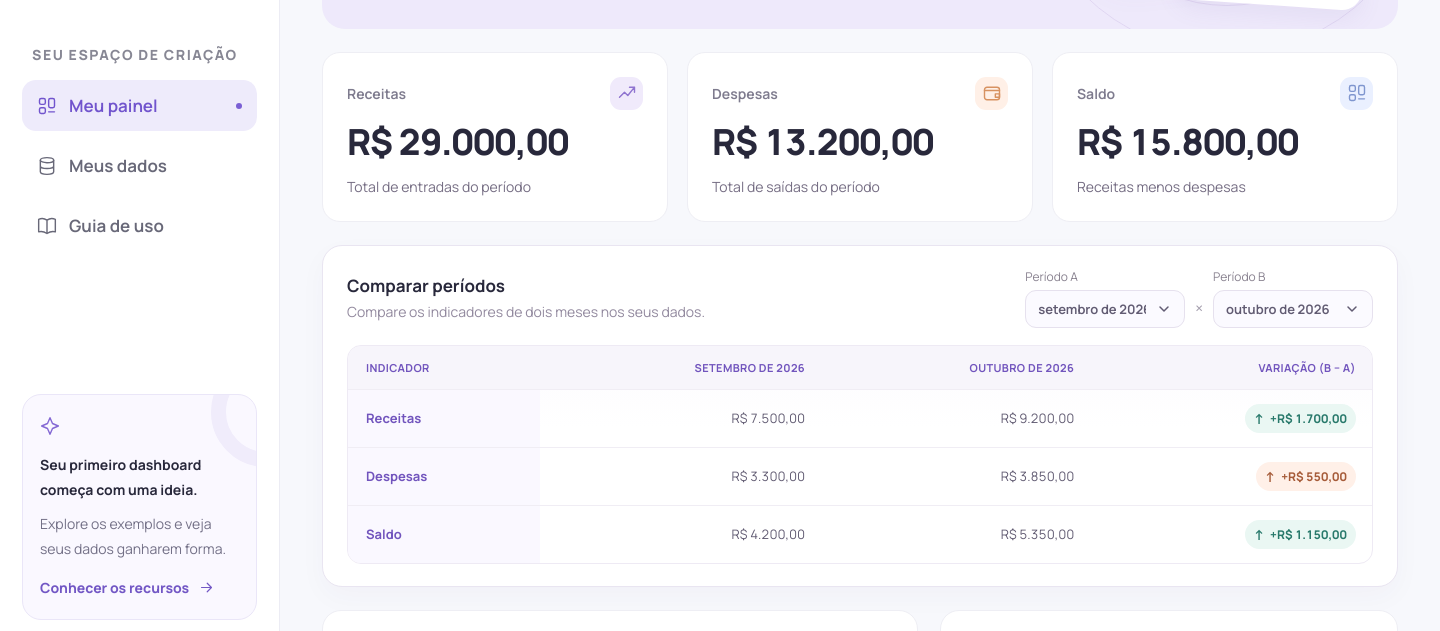
Test case: dashboard and data filters › compares the selected months and updates when the model changes
This screenshot has width=1440, height=631.
(page scrolled)
Check: the row "Receitas R$ 7.500,00 R$ 9.200,00 ↑ +R$ 1.700,00" is shown, box [732,409,805,427]
Step 1. Select "2026-08" in the dropdown labelled "Período A" → (1105, 309), box [1025,290,1185,328]
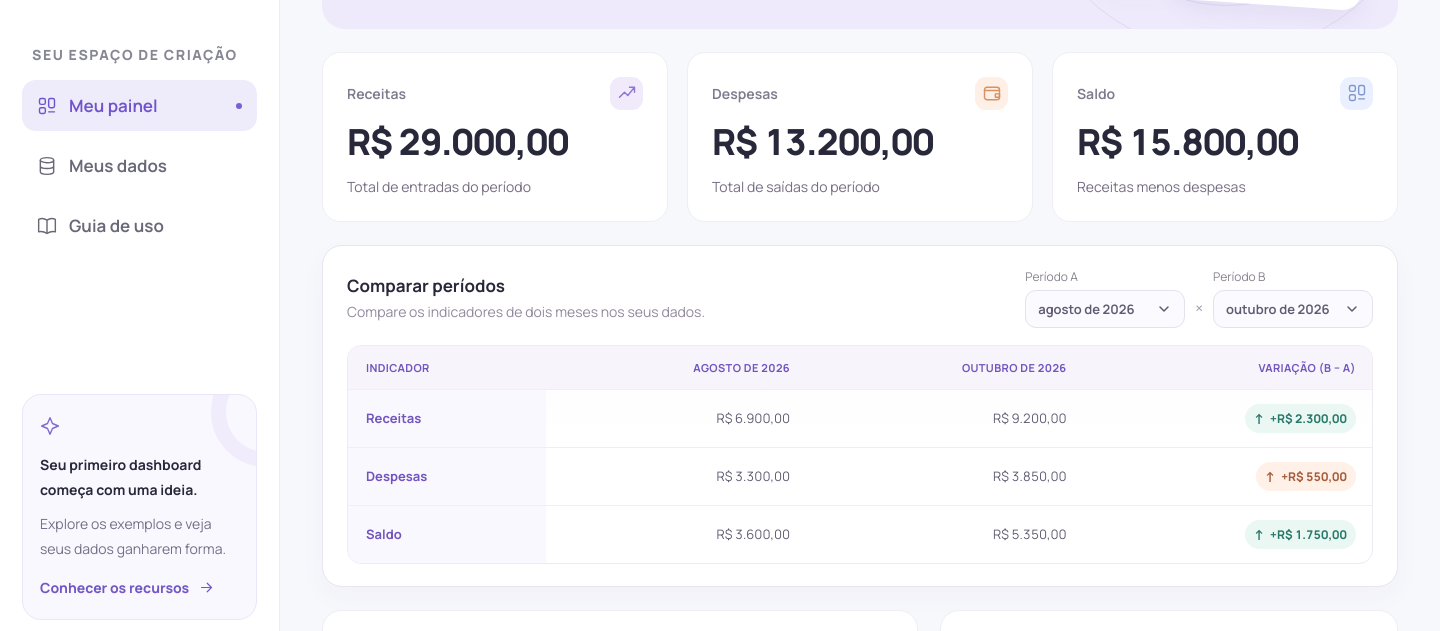
Step 2. Select "2026-09" in the dropdown labelled "Período B" → (1293, 309), box [1213,290,1373,328]
(page scrolled)
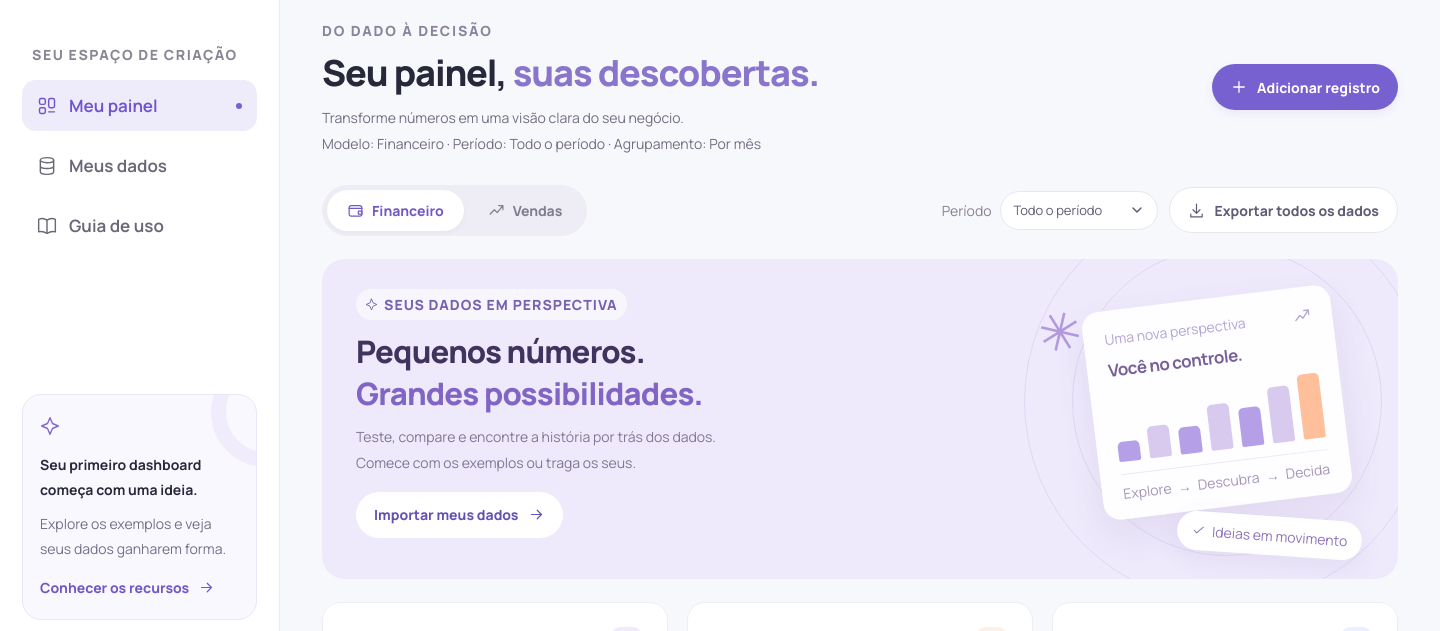
Step 3. Click the button "Vendas" → (525, 210), box [468,190,582,231]
(page scrolled)
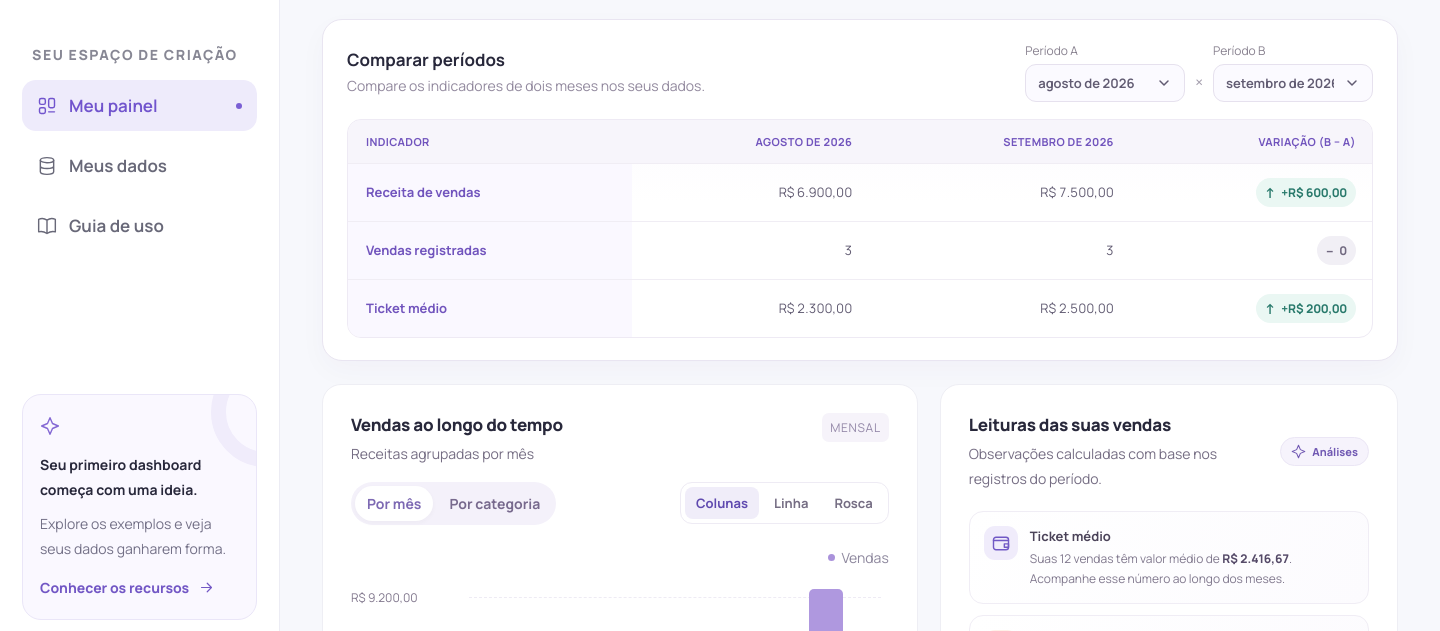
Check: the row "Receita de vendas R$ 6.900,00 R$ 7.500,00 ↑ +R$ 600,00" is shown, box [779,183,852,201]
Check: the row "Ticket médio R$ 2.300,00 R$ 2.500,00 ↑ +R$ 200,00" is shown, box [779,299,852,317]
